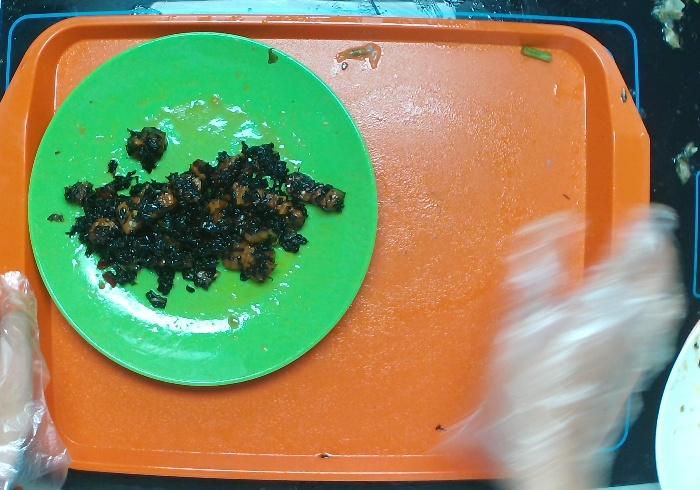HZYJPL-Lv_Se_Yuan_Pan: (26, 30, 380, 388)
